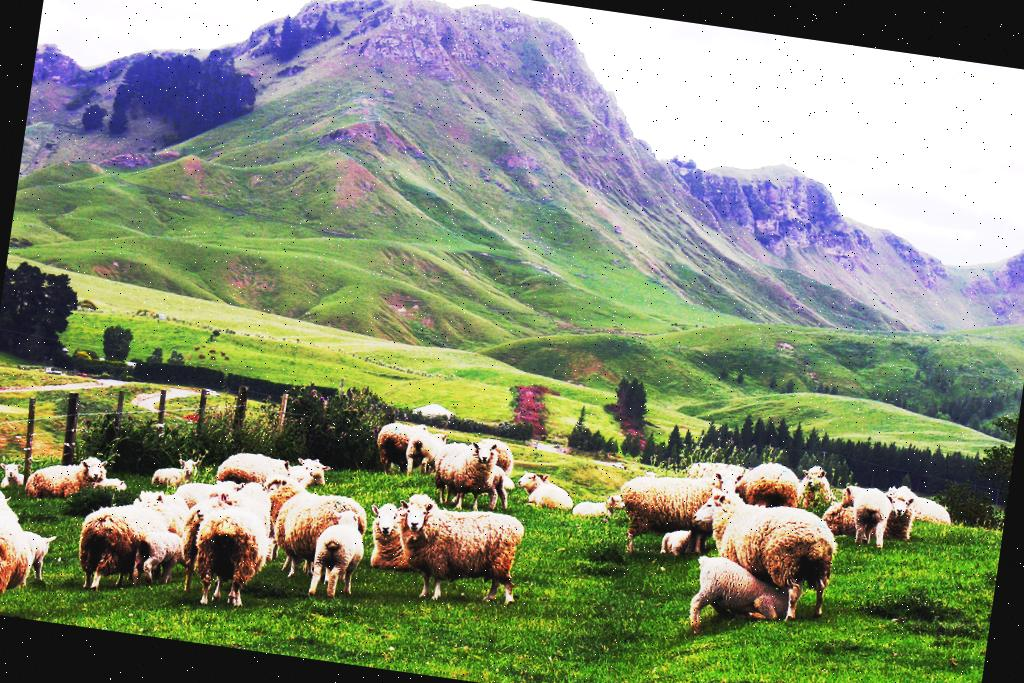Sheep: (388, 490, 526, 612), (684, 482, 844, 587), (72, 485, 184, 602), (186, 493, 274, 614), (688, 552, 802, 644), (620, 466, 720, 564), (250, 484, 366, 566), (304, 504, 374, 602), (24, 446, 108, 506), (0, 499, 40, 617), (516, 456, 584, 517), (732, 456, 803, 512), (254, 470, 307, 541), (213, 446, 293, 492), (436, 428, 518, 468), (174, 472, 248, 515), (888, 485, 956, 528), (402, 426, 444, 478), (480, 463, 514, 511), (574, 490, 620, 522), (148, 489, 192, 521), (288, 454, 331, 486), (150, 464, 188, 490), (686, 458, 714, 480), (136, 486, 166, 506), (0, 485, 14, 522), (709, 461, 731, 472)
